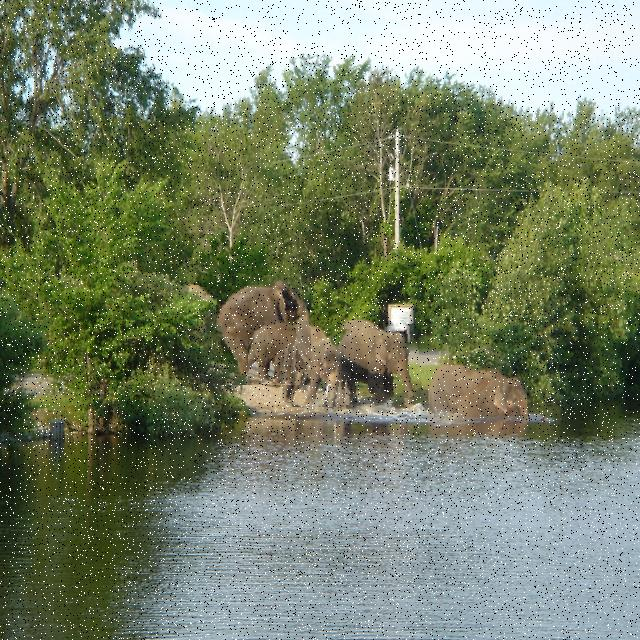elephant: (207, 278, 311, 385), (335, 326, 421, 403), (282, 322, 349, 407), (432, 366, 527, 424), (175, 285, 213, 361), (248, 325, 290, 383)
